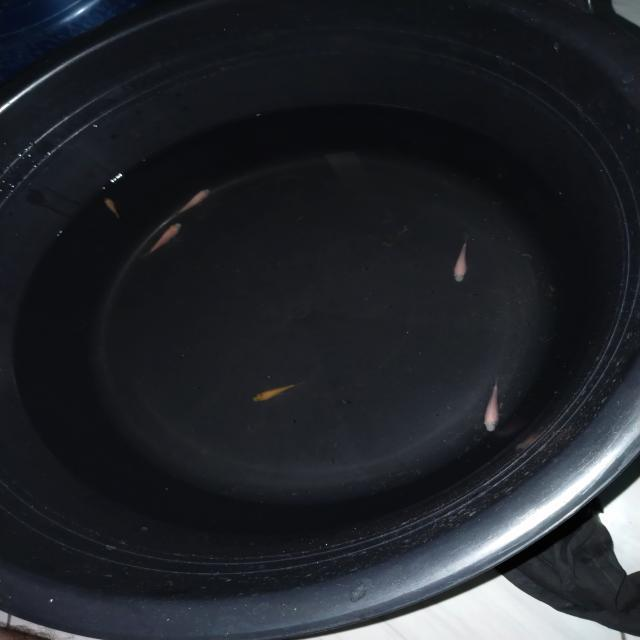nila: (478, 374, 507, 438), (146, 220, 193, 254), (448, 233, 476, 283), (175, 183, 214, 217), (248, 384, 306, 402), (99, 190, 123, 226)
